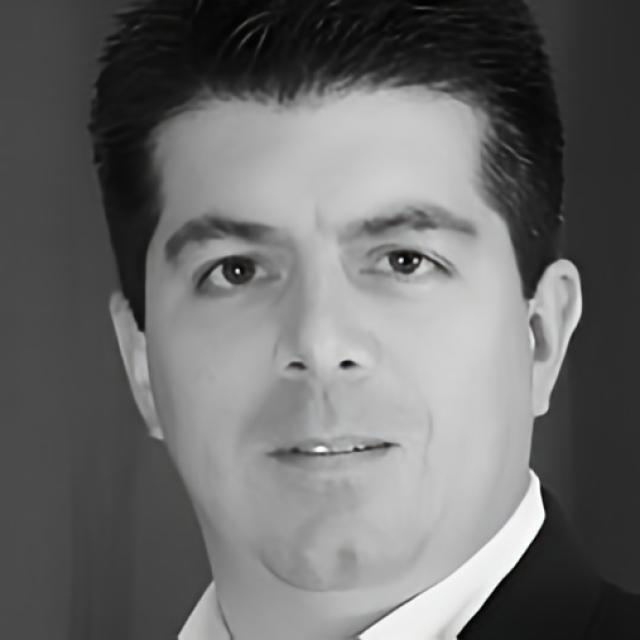content: (145, 76, 530, 594)
